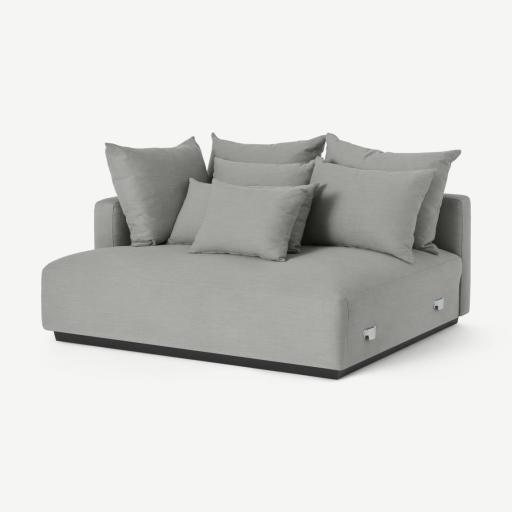back_cushion: (105, 133, 460, 262)
left_arm: (435, 194, 470, 315)
one-seater: (42, 134, 470, 378)
right_arm: (94, 197, 130, 248)
seat_cushion: (42, 245, 462, 375)
